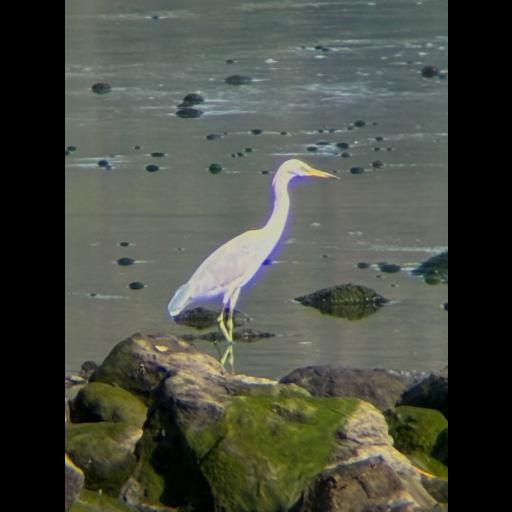chinese_egret: (166, 158, 340, 346)
